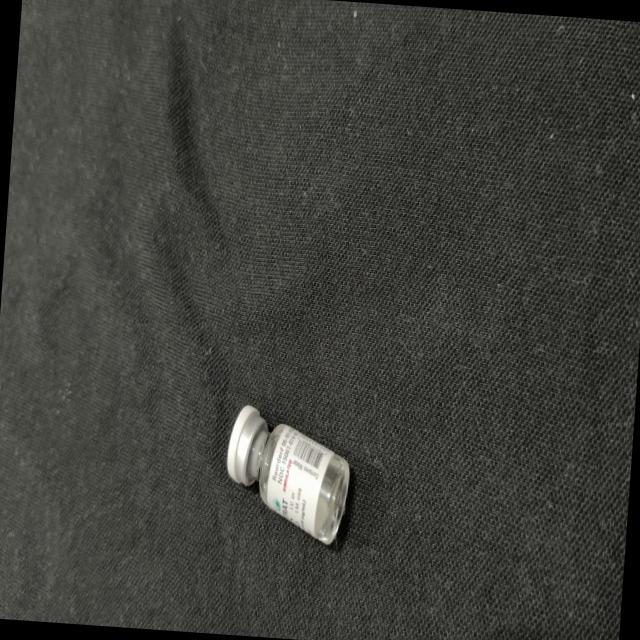fentanl_citrat: (223, 406, 352, 544)
